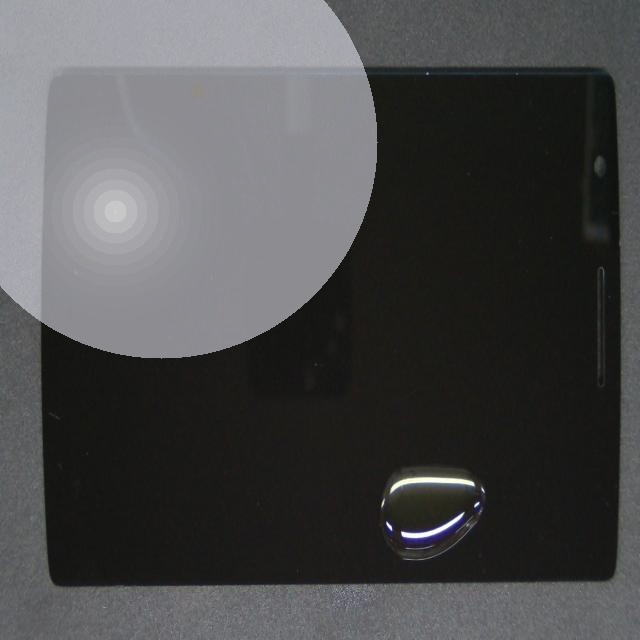oil: (278, 248, 640, 640)
